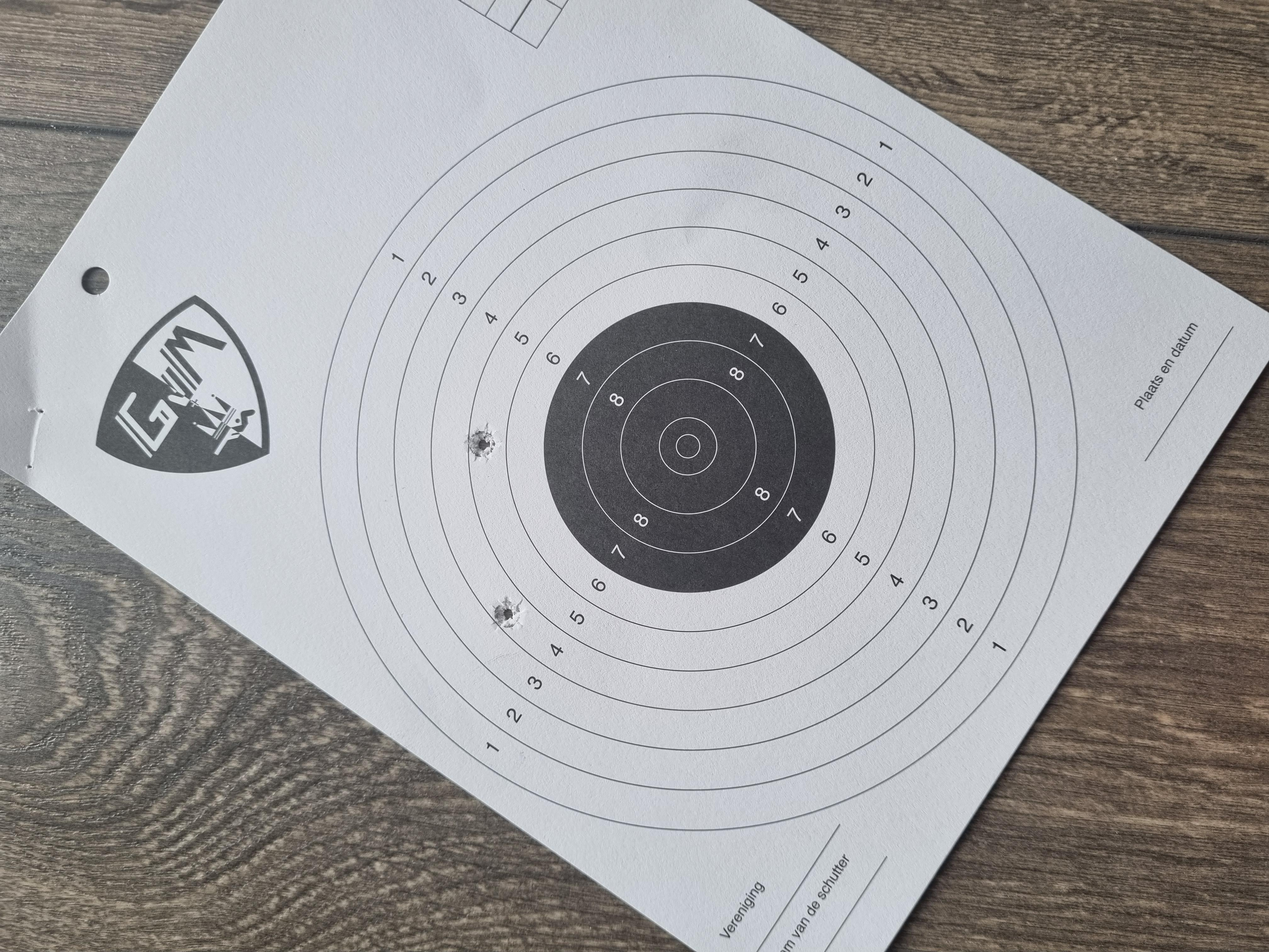hole: (430, 367, 474, 393), (652, 350, 706, 371)
